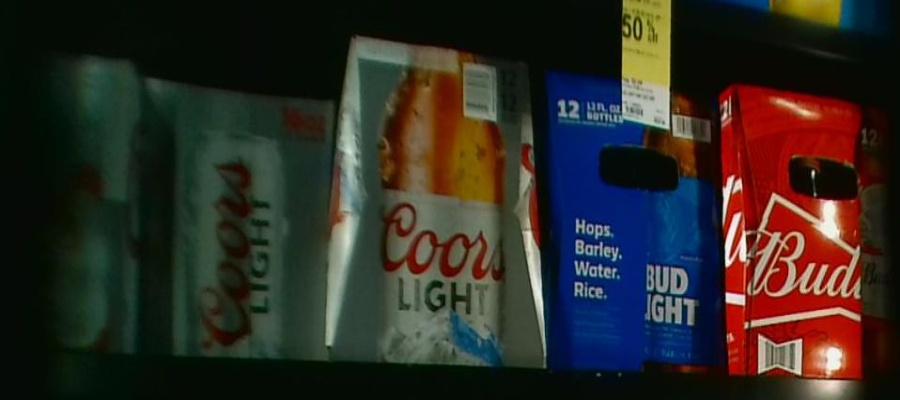bottle: (335, 35, 544, 365), (544, 67, 726, 374), (137, 76, 330, 359), (721, 79, 891, 378), (4, 59, 143, 359)
